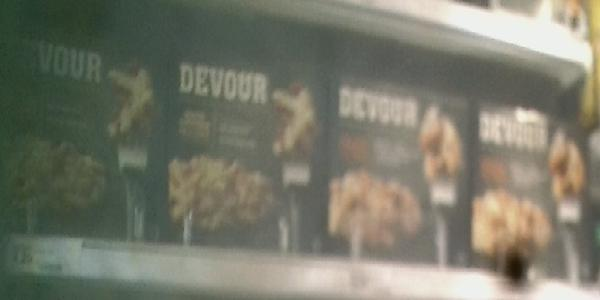pizza1: (159, 23, 318, 257), (9, 22, 158, 238), (330, 75, 470, 272), (476, 103, 581, 275)
